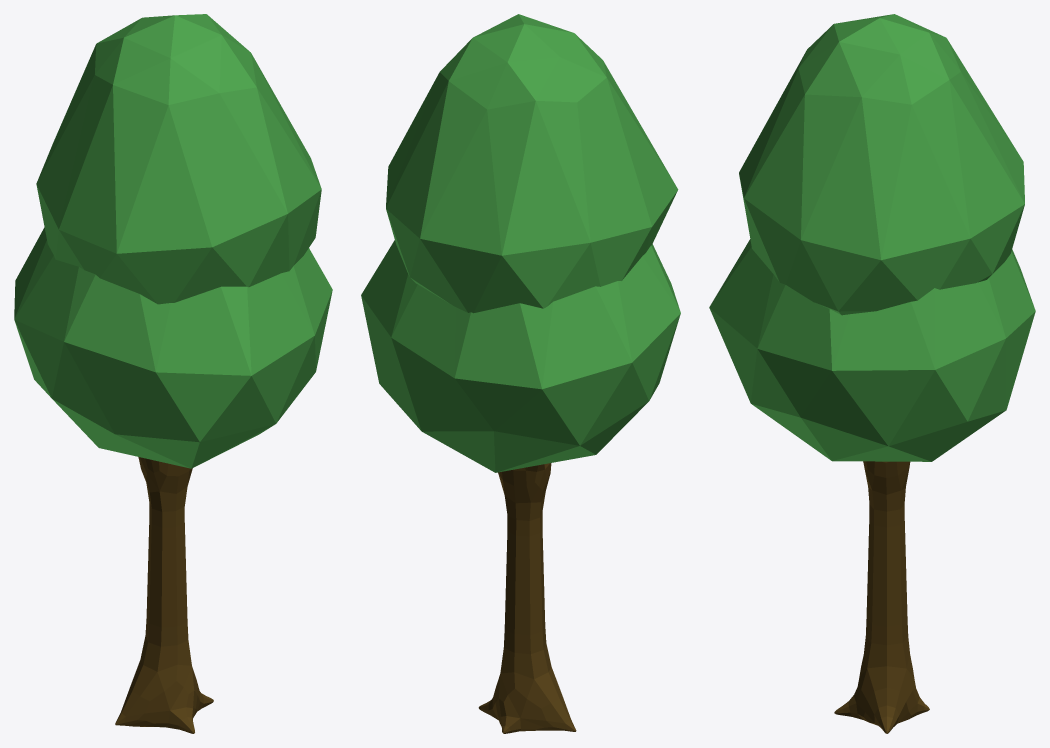
The model's file is arvore2tile.fbx.
3 renders of one model, left to right at view 1: azimuth 30°, elevation 25°; view 2: azimuth 150°, elevation 25°; view 3: azimuth 270°, elevation 25°, orthographic.
Visible parts, largest first — view 1: Icosphere.013; view 2: Icosphere.013; view 3: Icosphere.013.
Part boxes in pixels (left/top/right/bottom): Icosphere.013: left=14, top=14, right=332, bottom=733; Icosphere.013: left=361, top=14, right=680, bottom=733; Icosphere.013: left=709, top=14, right=1035, bottom=733.
Size of the model in its own units: 160 by 397 by 168.
